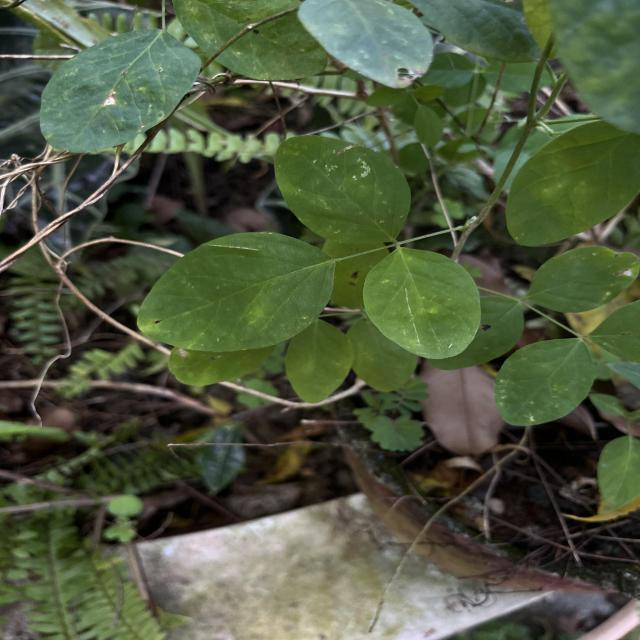Clitoria ternatea: (136, 230, 337, 354), (272, 134, 413, 247), (362, 247, 482, 361), (492, 337, 596, 427)
